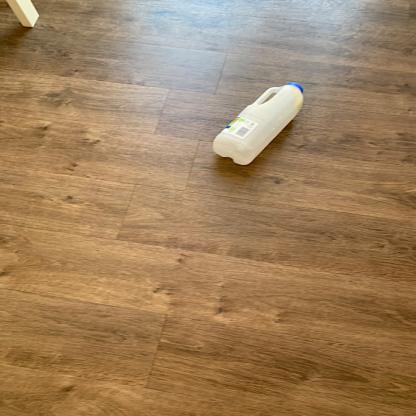trash: (210, 78, 310, 168)
